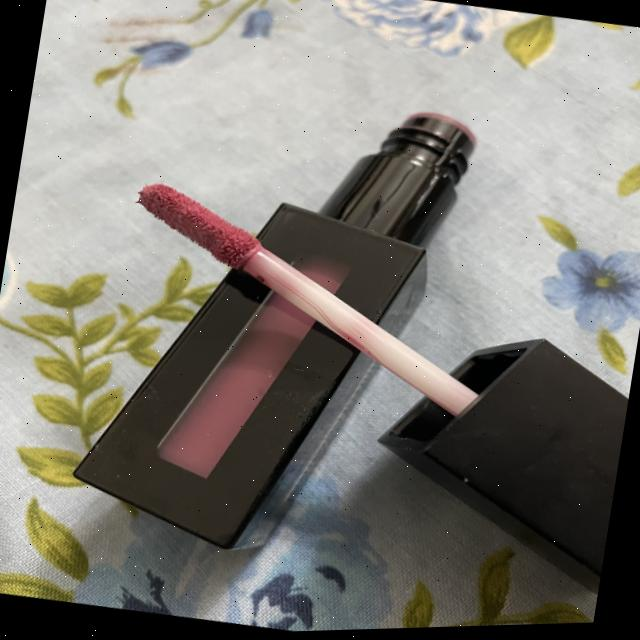lip gloss: (23, 27, 640, 639), (14, 40, 532, 612), (99, 158, 301, 334)
